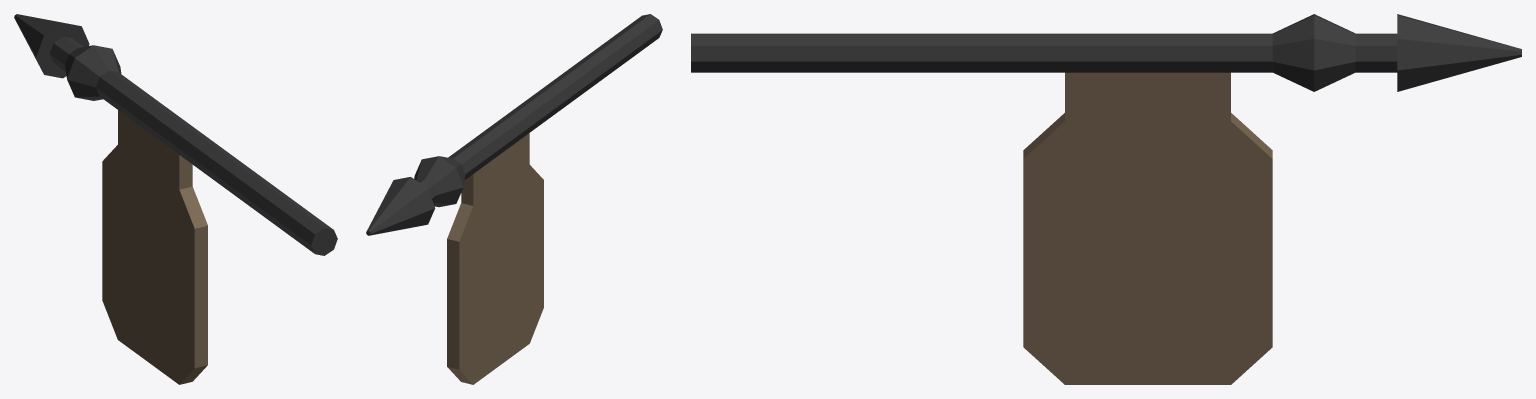
Rendered from victorian_sign_1.fbx.
The picture shows the model from 3 angles, left to right: view 1: azimuth 30°, elevation 25°; view 2: azimuth 150°, elevation 25°; view 3: azimuth 270°, elevation 25°; orthographic projection. The views are drawn at different scales.
Visible parts, largest first — view 1: Cylinder; view 2: Cylinder; view 3: Cylinder.
Part boxes in pixels (x1,y1,x2,y2): Cylinder: (14,14,337,384); Cylinder: (366,14,662,384); Cylinder: (691,14,1521,384).
Size of the model in its own units: 20 by 97 by 200.
